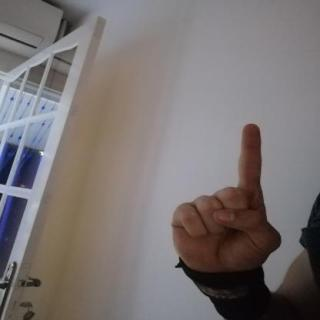BAA: (157, 115, 286, 282)
